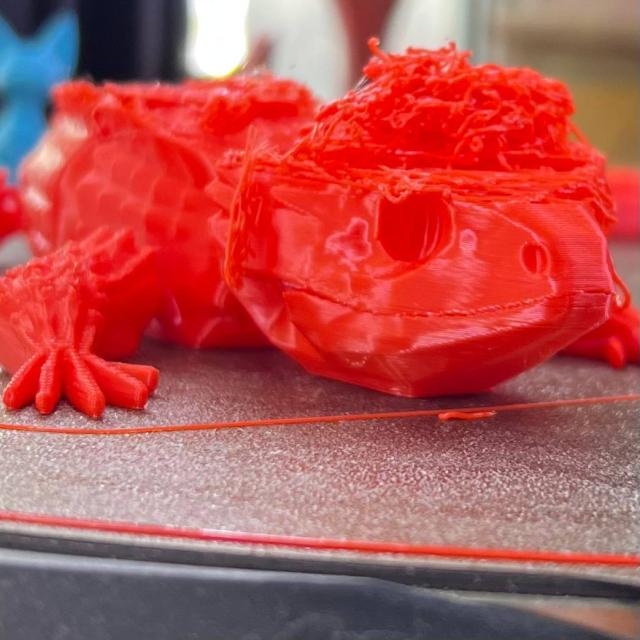Spaghetti: (288, 25, 608, 171)
